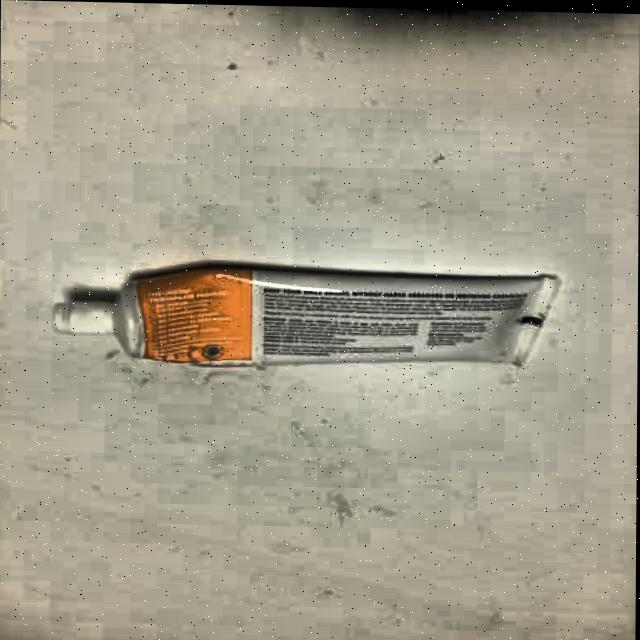trash: (50, 250, 565, 385)
